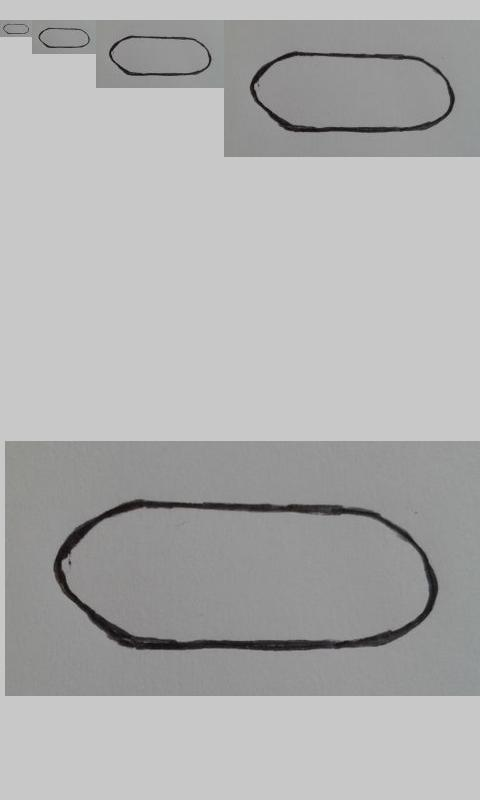chip: (52, 498, 440, 652), (250, 50, 455, 134), (108, 35, 212, 76), (38, 27, 91, 48), (3, 23, 29, 34)
